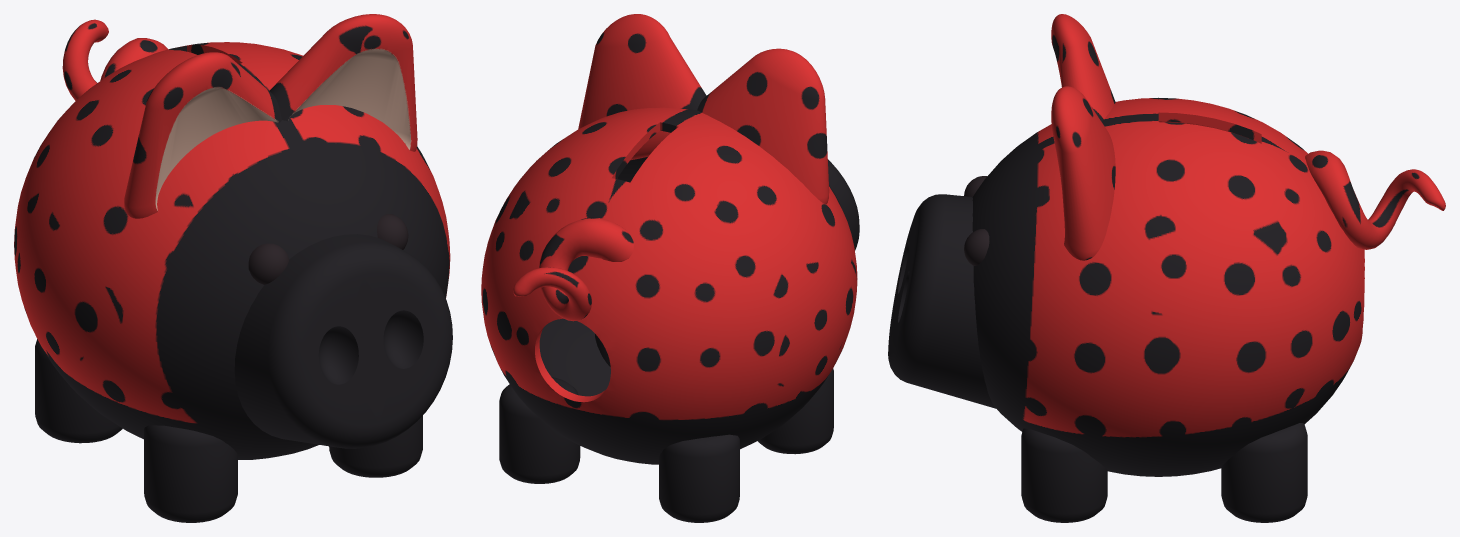
Rendered from ladybird-complete.fbx.
3 renders of one model, left to right at view 1: azimuth 30°, elevation 25°; view 2: azimuth 150°, elevation 25°; view 3: azimuth 270°, elevation 25°, orthographic. The views are drawn at different scales.
Parts seen in each view (by area): view 1: Body, Snout, Ears, Legs, Tail, Eyes; view 2: Body, Ears, Legs, Tail, Snout; view 3: Body, Snout, Legs, Ears, Tail, Eyes.
Part boxes in pixels (bbox=[...]): Body: bbox=[14, 42, 450, 459]; Snout: bbox=[234, 234, 452, 448]; Ears: bbox=[124, 14, 417, 218]; Legs: bbox=[35, 339, 422, 522]; Tail: bbox=[62, 19, 167, 100]; Eyes: bbox=[248, 214, 408, 284]; Body: bbox=[481, 107, 857, 464]; Ears: bbox=[578, 14, 829, 203]; Legs: bbox=[499, 334, 833, 522]; Tail: bbox=[513, 217, 634, 321]; Snout: bbox=[828, 159, 859, 250]; Body: bbox=[972, 97, 1364, 476]; Snout: bbox=[888, 194, 996, 408]; Legs: bbox=[1021, 423, 1307, 522]; Ears: bbox=[1051, 14, 1115, 260]; Tail: bbox=[1305, 150, 1445, 249]; Eyes: bbox=[964, 176, 989, 265].
Size of the model in its own units: 1200 by 1397 by 1708.
3 materials, 2 textured.
